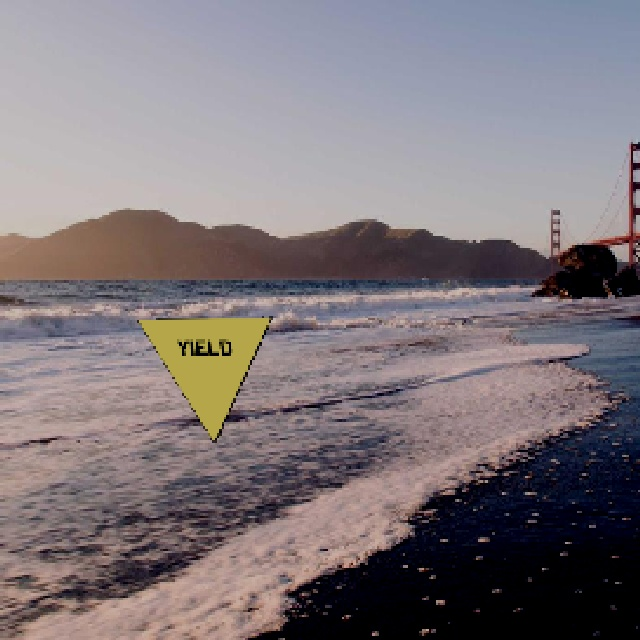YIELD: (134, 315, 271, 443)
